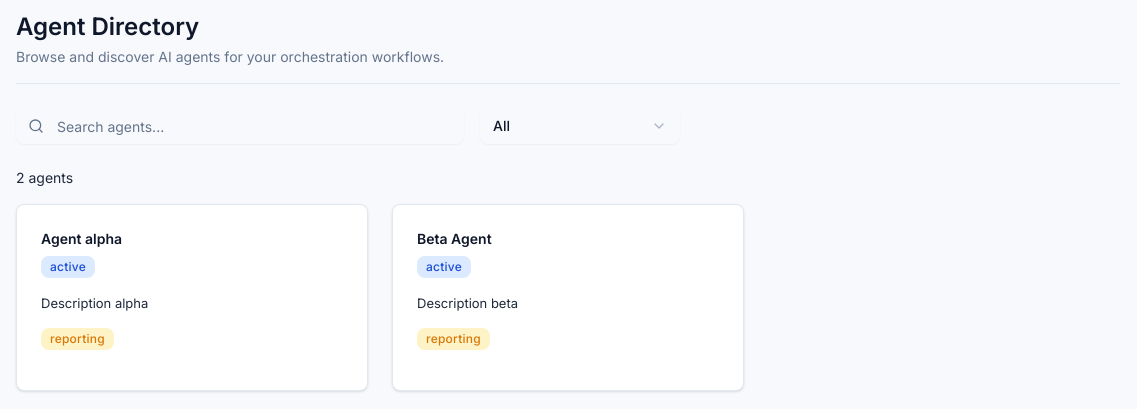
AgentsPage › filters agents by search query
Expected: the heading "Agent alpha" is shown, 41,229 -> 122,249
Type "beta" into the field with placeholder "Search agents..." at coordinates (240, 126), box 16,108 -> 464,144
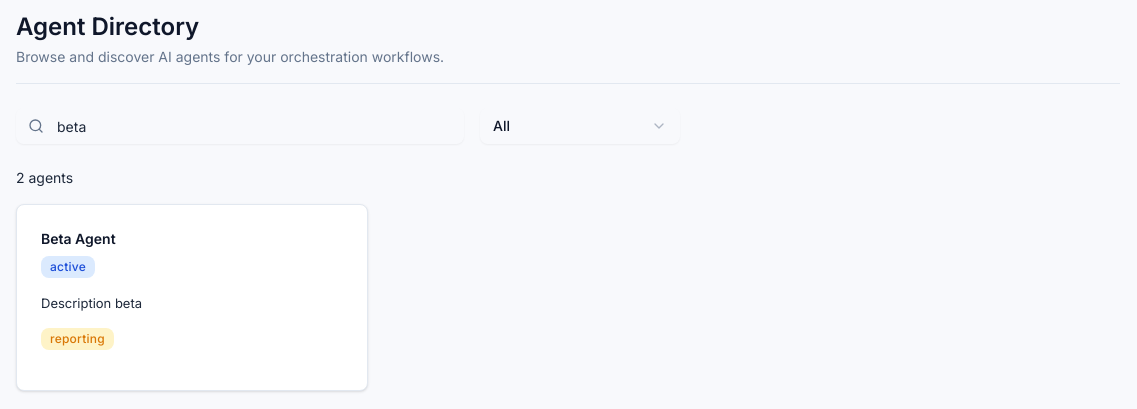
Expected: the heading "Beta Agent" is shown, 41,229 -> 116,249
Result: the heading "Agent alpha" is gone
